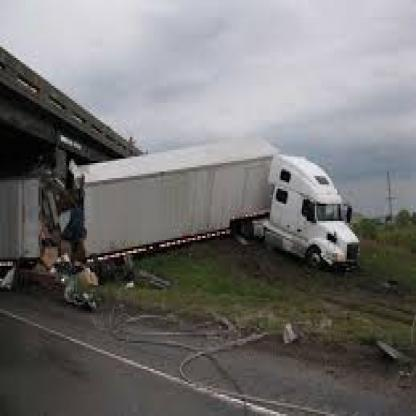accident: (65, 128, 416, 340)
